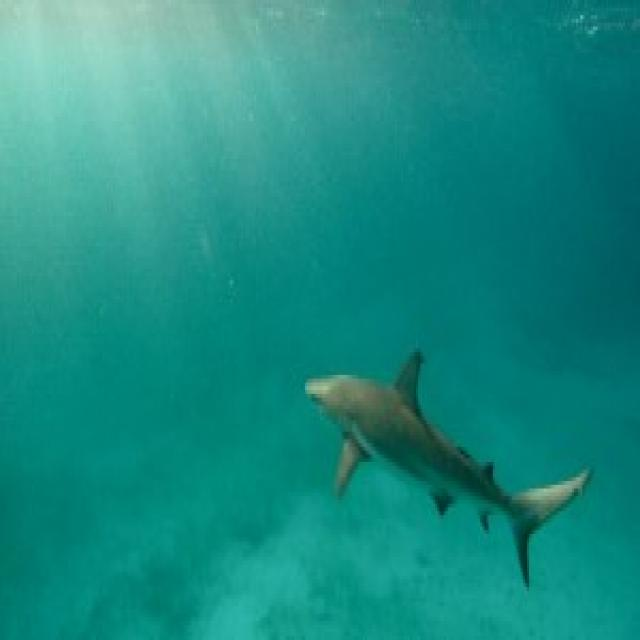Shark: (306, 342, 602, 602)
